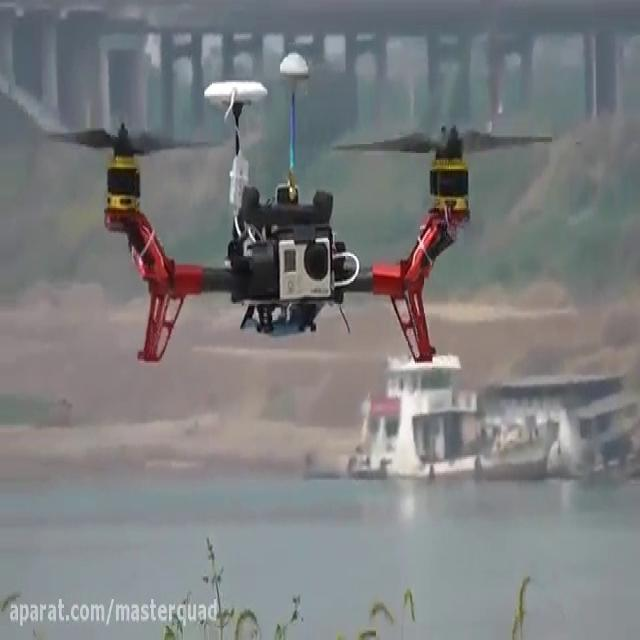drone: (42, 46, 557, 370)
